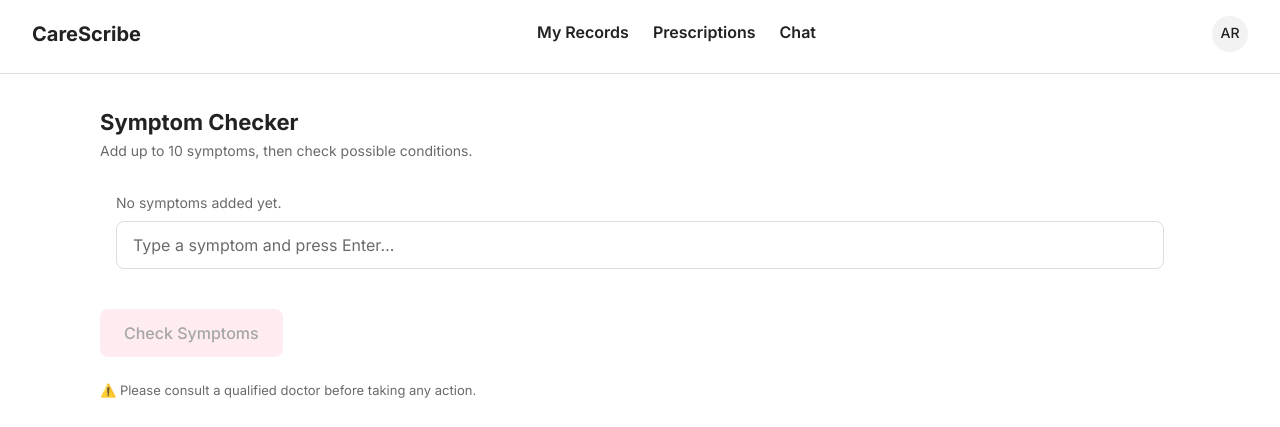
Test: symptom checker › removes a symptom chip via ×
Type "fever" into the field labelled "Type a symptom and press Enter" at (640, 245), box top-left (116, 221), bottom-right (1164, 269)
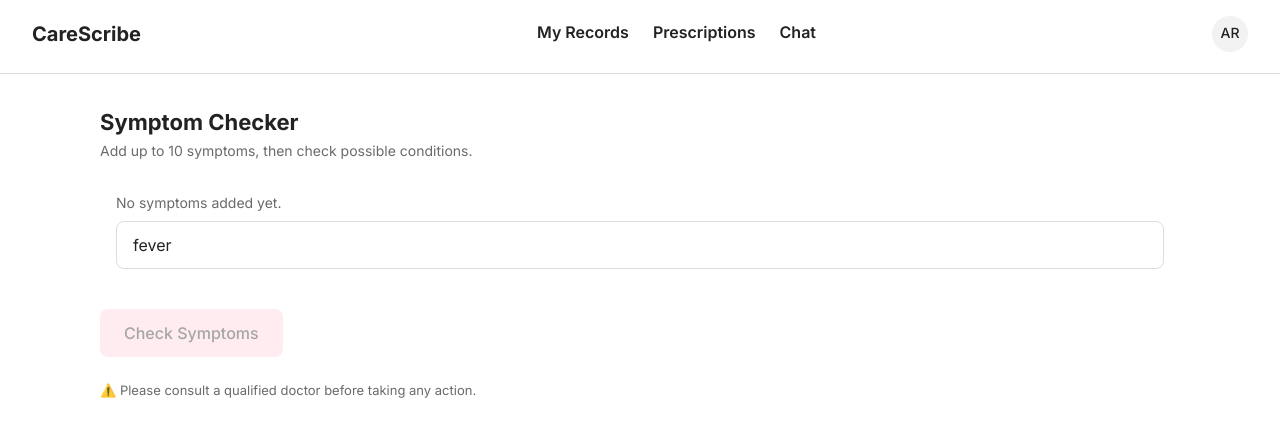
Press Enter in the field named "Type a symptom and press Enter", box top-left (116, 221), bottom-right (1164, 269)
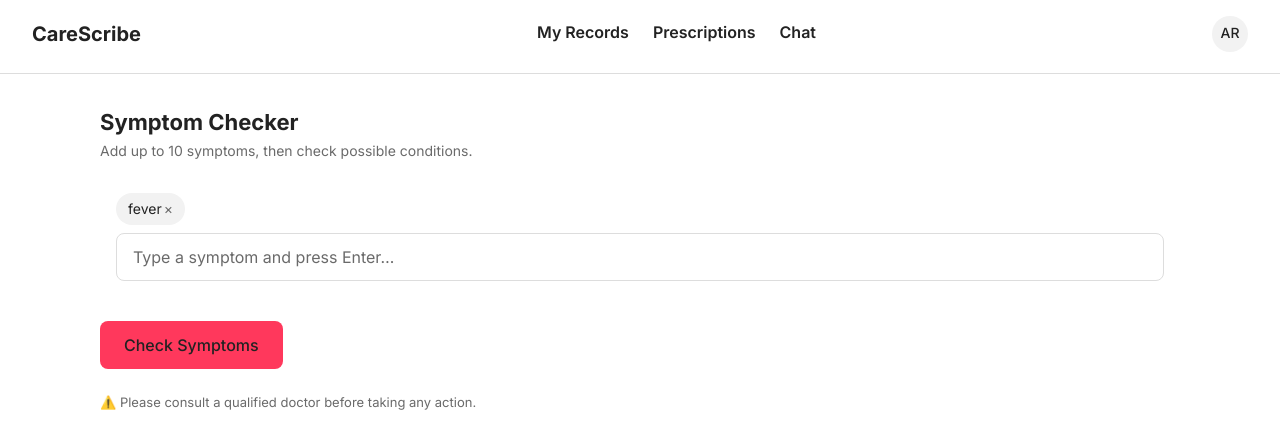
Click the button named "Remove fever" at (168, 209), box top-left (164, 199), bottom-right (173, 219)
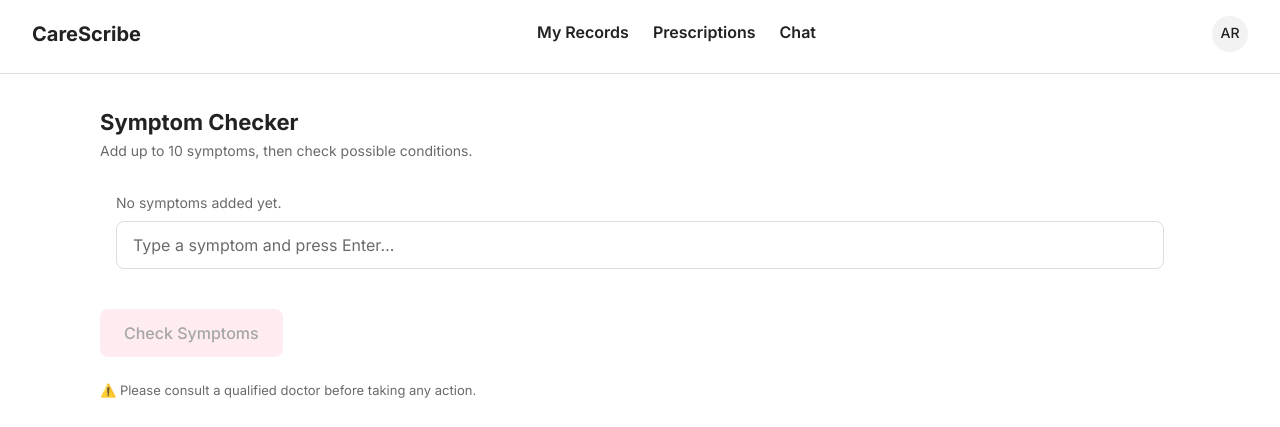
Expected: the text "fever" is gone
